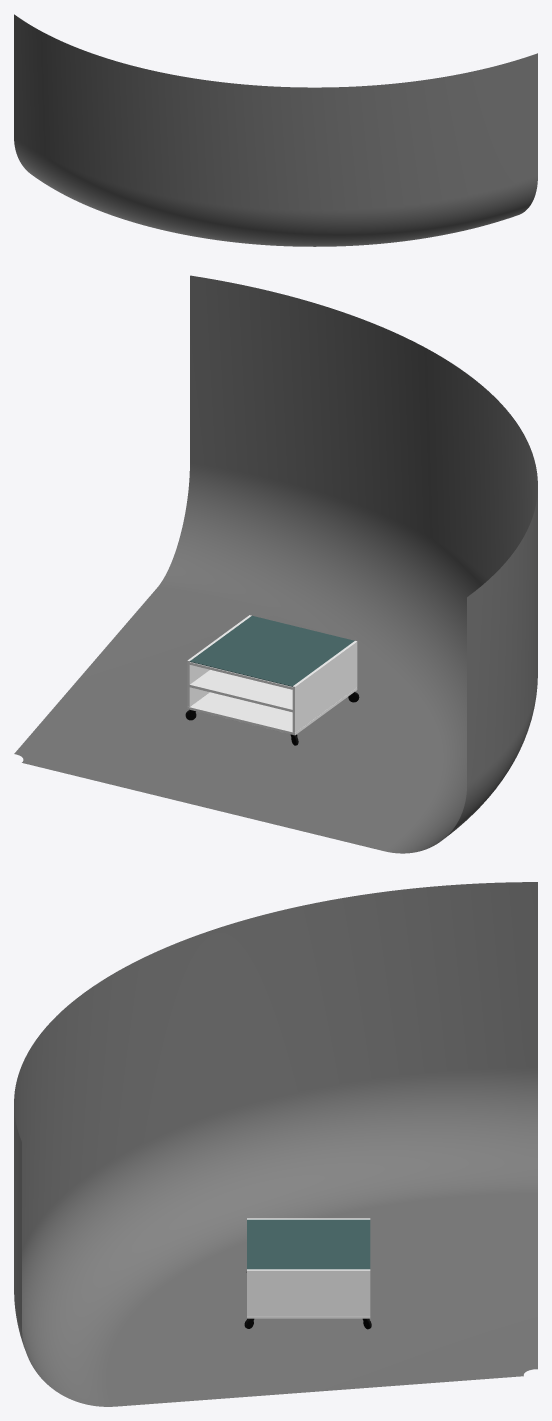
Rendered from ikea_booksale.FBX.
3 views of the same model, one above another, from view 1: azimuth 30°, elevation 25°; view 2: azimuth 150°, elevation 25°; view 3: azimuth 270°, elevation 25° (orthographic). The views are drawn at different scales.
Visible parts, largest first — view 1: Line008; view 2: Line008, Box001, Box005; view 3: Line008, Box001, Box005.
Boxes of the visible parts, x1,y1,x2,y2 form: Line008: [14, 14, 537, 246]; Line008: [14, 275, 537, 853]; Box001: [187, 615, 357, 735]; Box005: [189, 615, 354, 686]; Line008: [14, 882, 537, 1406]; Box001: [247, 1218, 370, 1318]; Box005: [247, 1219, 370, 1269].
Size of the model in its own units: 155 by 75.52 by 132.
